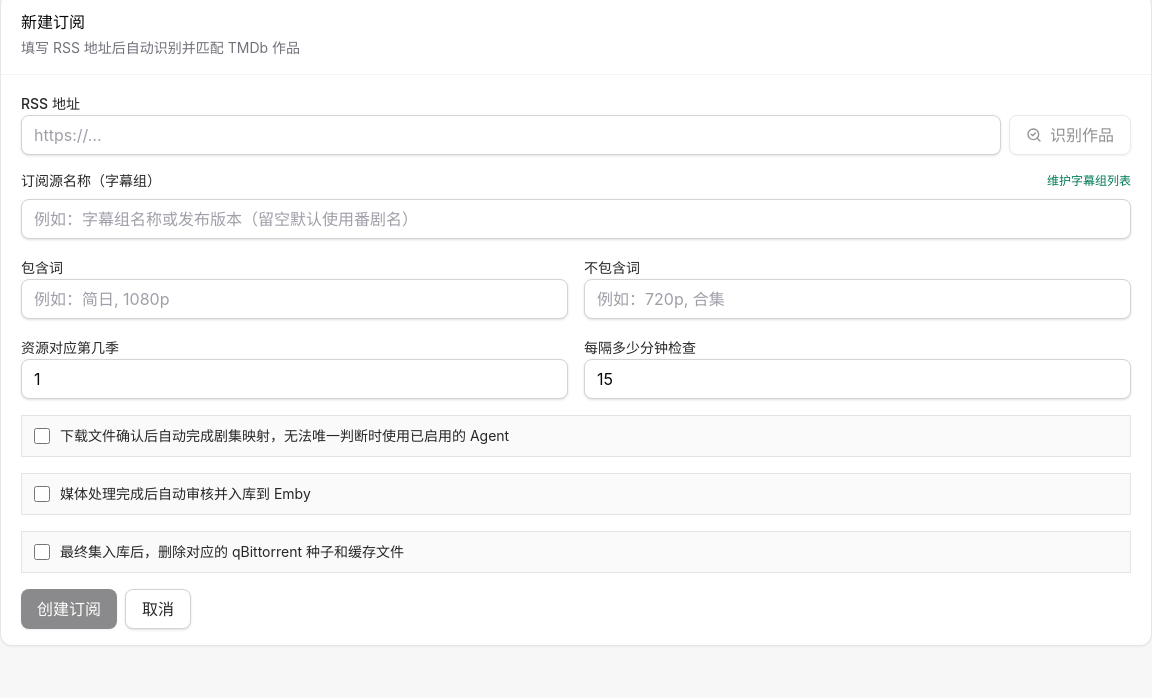
CreateSubscriptionForm › falls back to manual keyword search when the feed cannot be identified
The width and height of the screenshot is (1152, 698).
Type "https://feeds.example.test/show.xml" into the field labelled "RSS 地址" at (511, 135), box [21,115,1001,155]
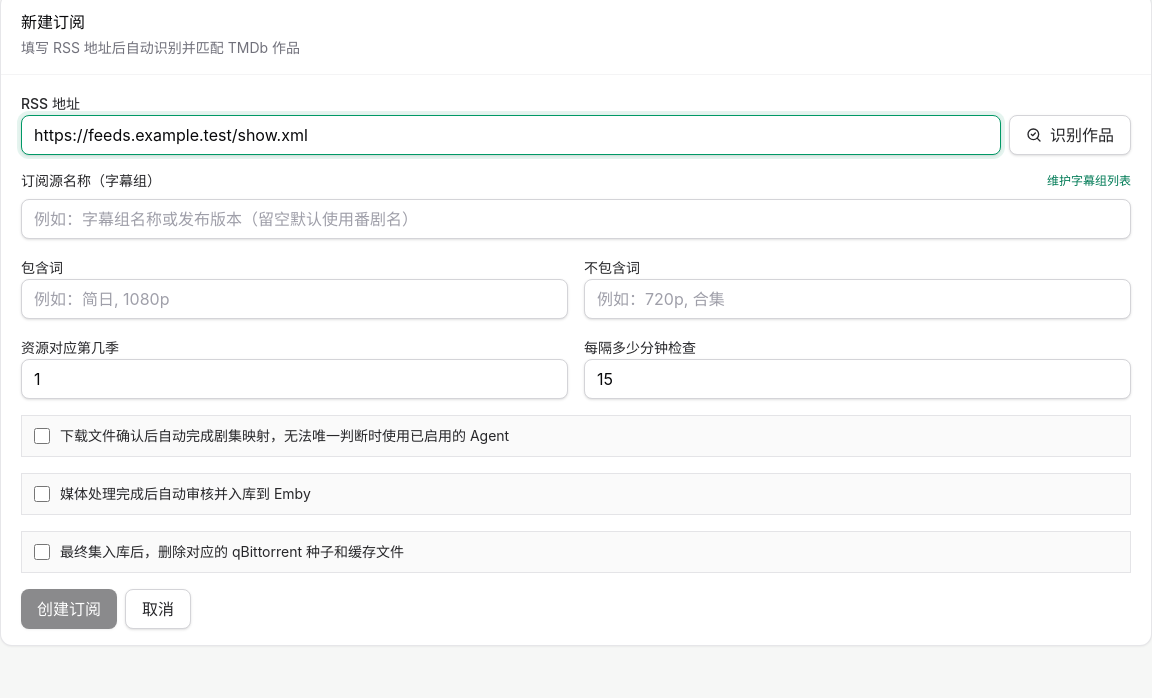
Click the button "识别作品" at (1070, 135), box [1009,115,1131,155]
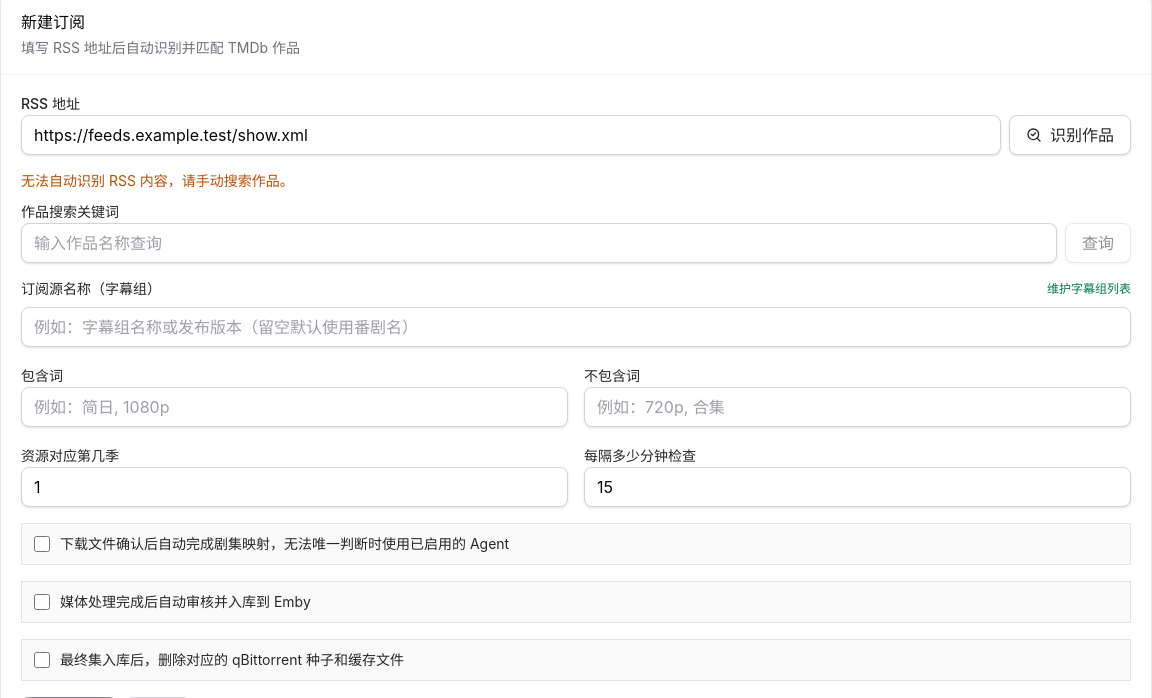
Result: the text "无法自动识别 RSS 内容，请手动搜索作品。" is shown at [21,172,294,189]
Type "手动匹配作品" into the field labelled "作品搜索关键词" at (539, 243), box [21,223,1057,263]
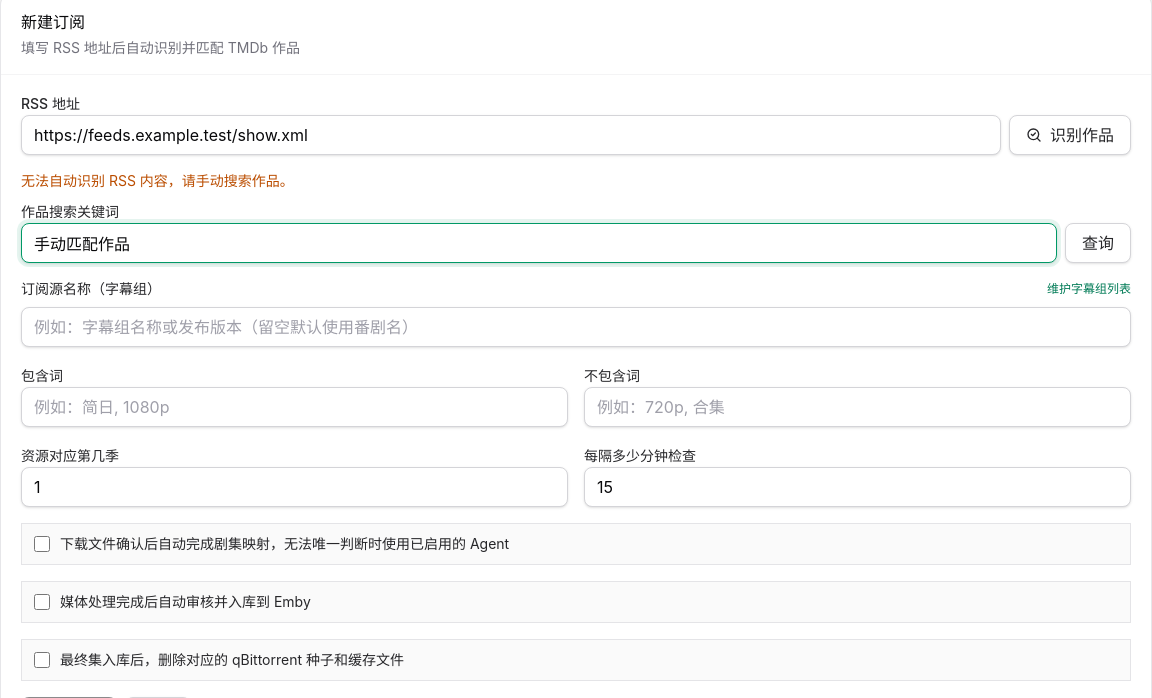
Click the button "查询" at (1098, 243), box [1065,223,1131,263]
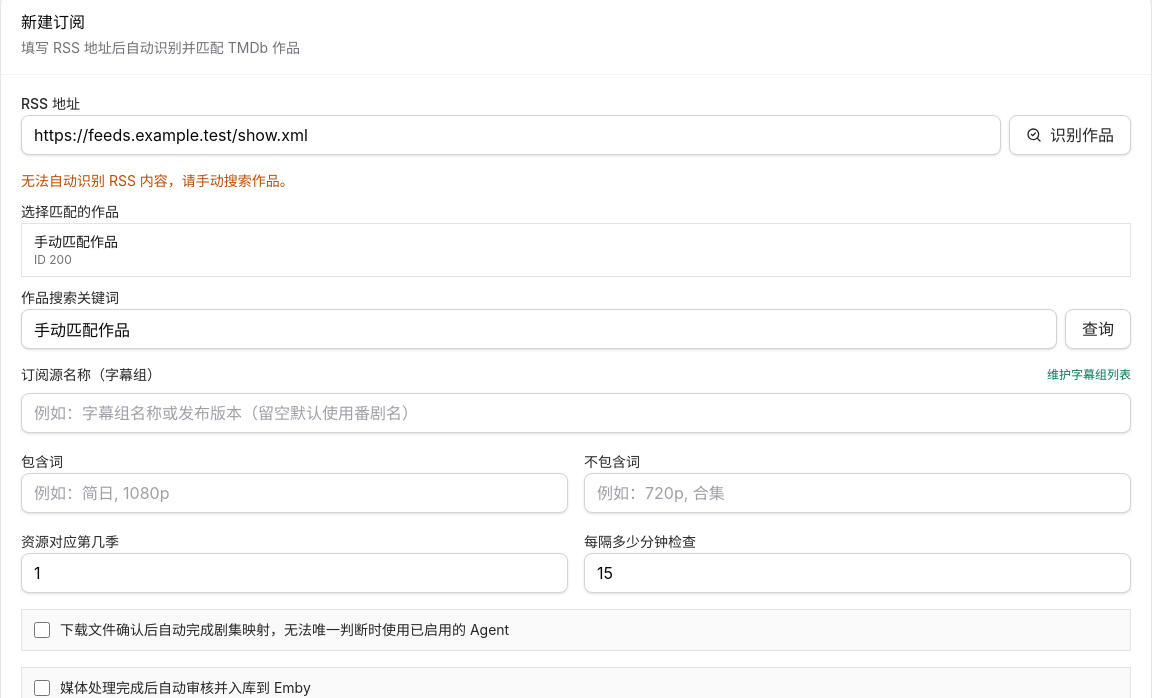
Click the button "手动匹配作品 ID 200" at (76, 242), box [22,224,1130,276]
(page scrolled)
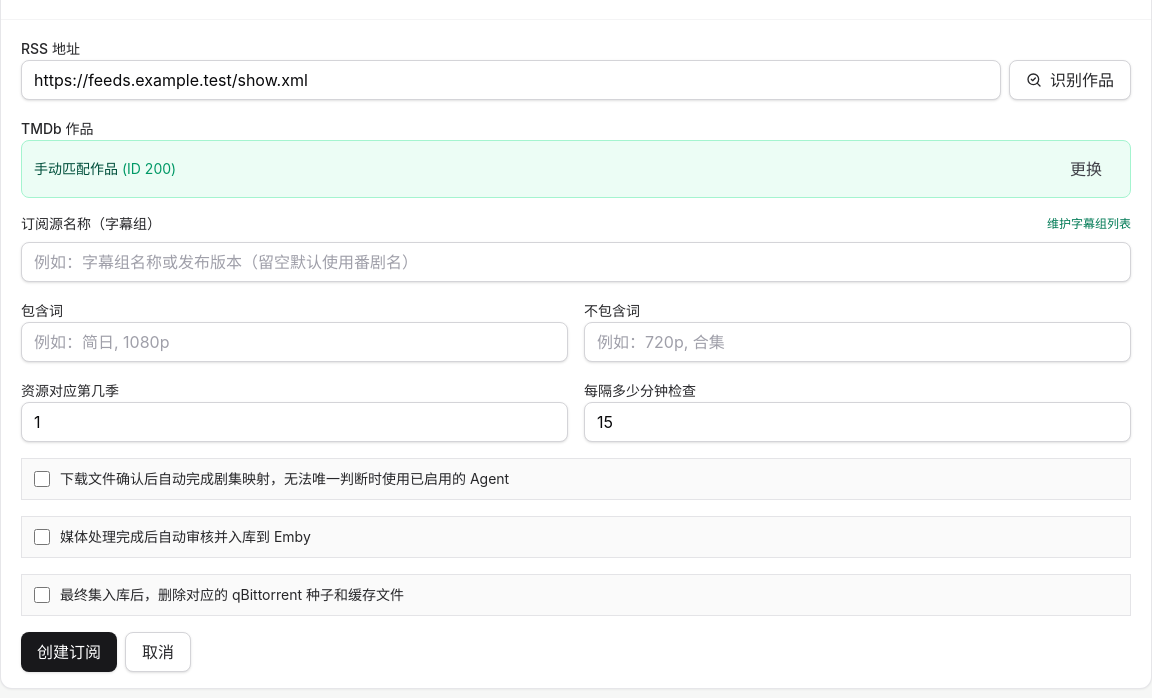
Result: the text "(ID 200)" is shown at [122,160,176,177]
Result: the button "创建订阅" is enabled at [21,632,117,672]
